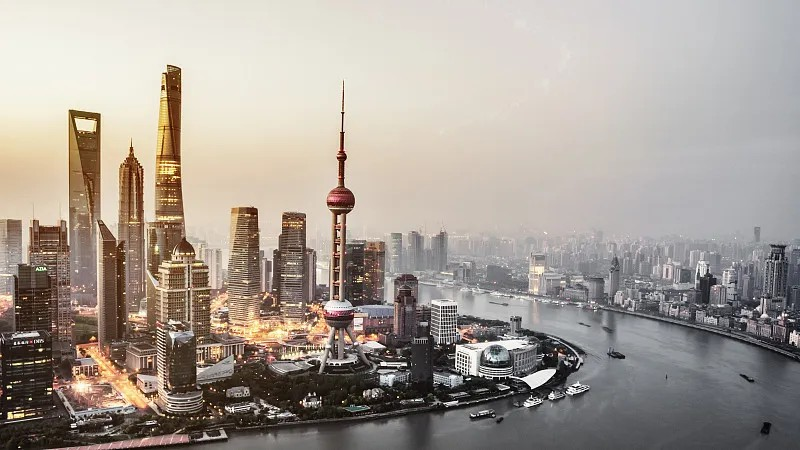Oriental: (318, 79, 372, 374)
